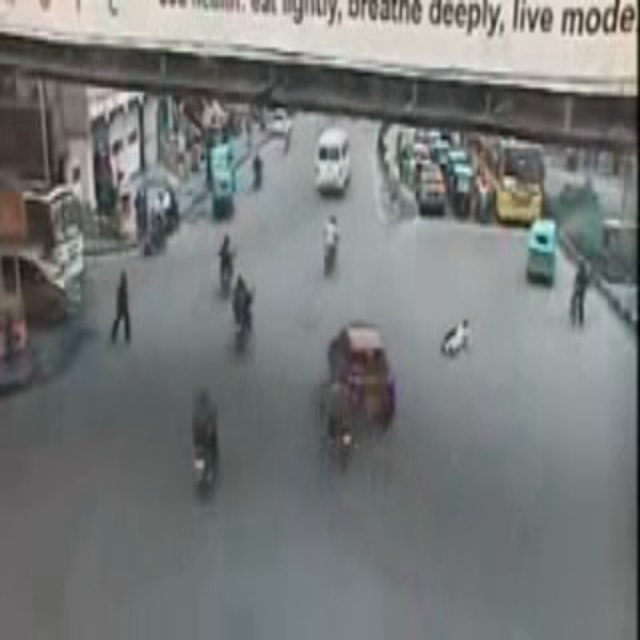acc: (430, 296, 493, 375)
